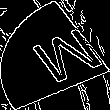M_SE: (11, 22, 99, 88)
